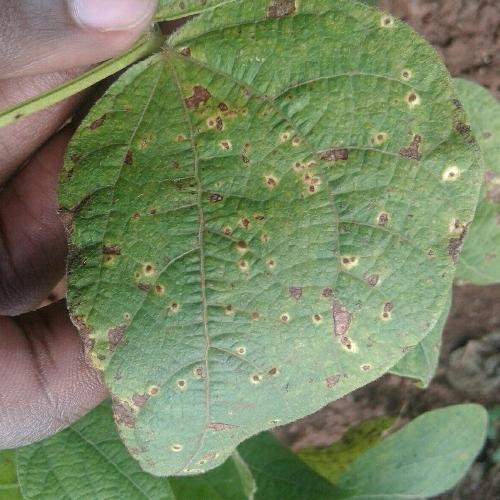hawar: (54, 1, 485, 476)
